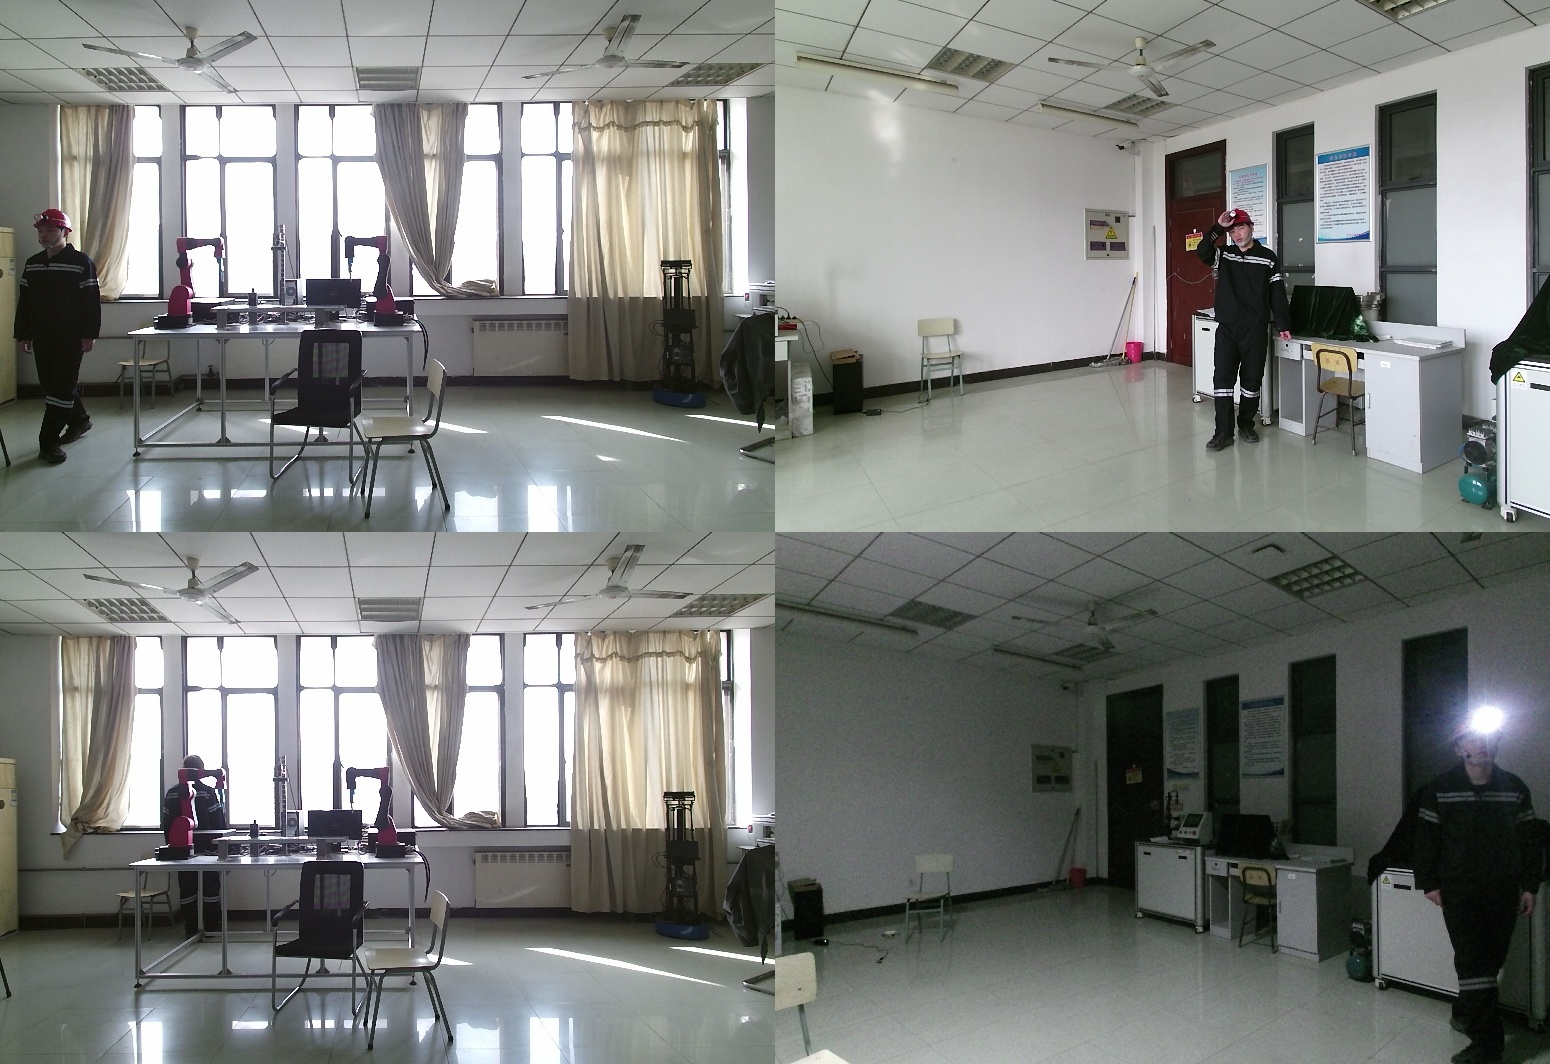person: (1417, 713, 1547, 1059), (9, 207, 106, 465), (1200, 210, 1298, 450), (163, 754, 230, 946)
